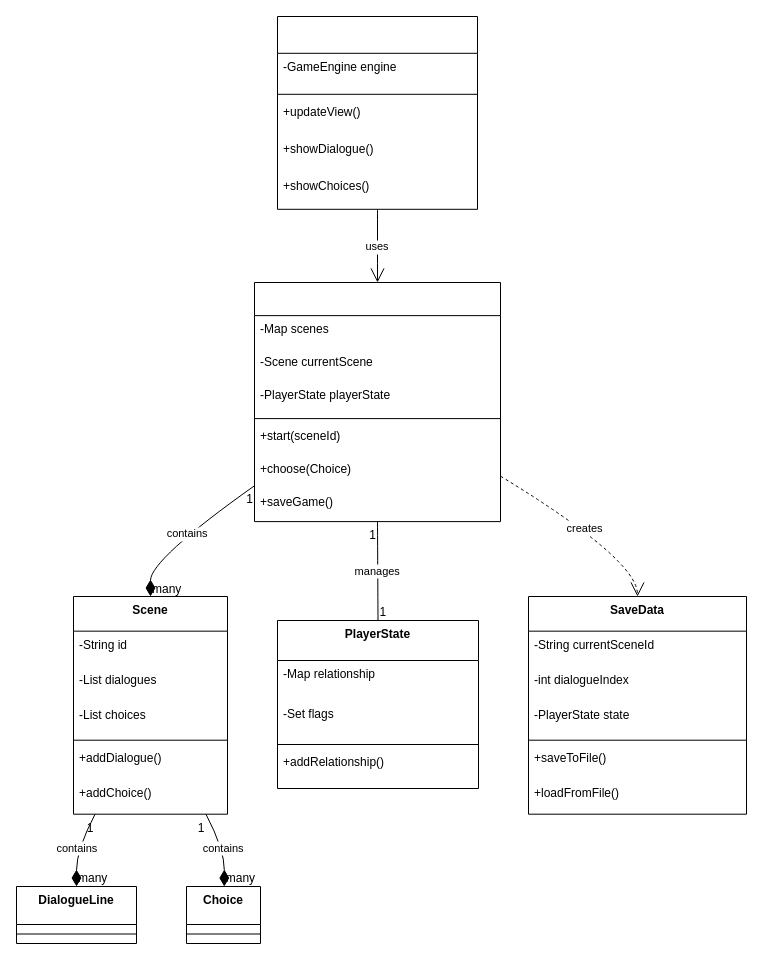
This 763x960 diagram has some shape labels left out. The box of each missing label's shape, as (x1, y1, x2, y2) in pixels:
GameEngine: (254, 282, 500, 522)
GameUI: (276, 16, 478, 209)
